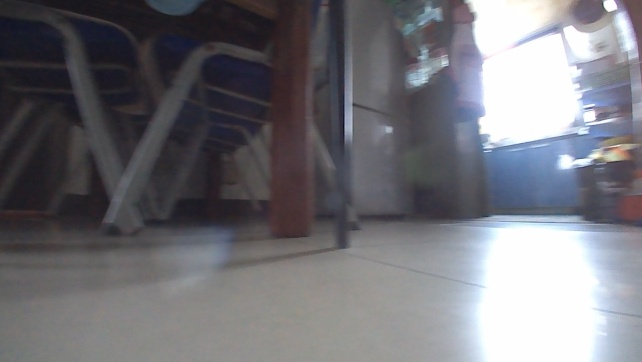dining_table1: (0, 0, 365, 249)
refrigerator: (351, 0, 421, 225)
